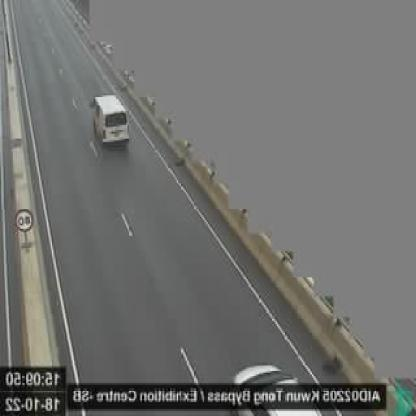Car: (220, 354, 335, 412), (89, 94, 132, 146)
